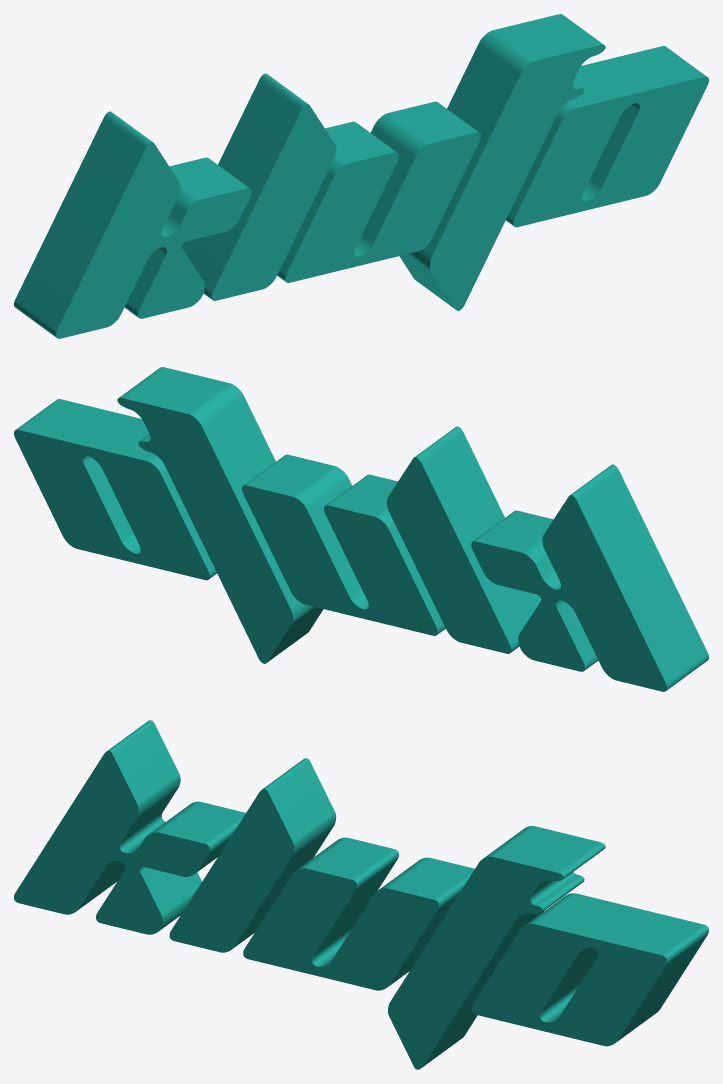
3 renders of one model, top to bottom at view 1: azimuth 30°, elevation 25°; view 2: azimuth 150°, elevation 25°; view 3: azimuth 330°, elevation 25°, orthographic.
Parts seen in each view (by area): view 1: klufo; view 2: klufo; view 3: klufo.
Boxes of the visible parts, <box> form: klufo: <box>14,14,708,338</box>; klufo: <box>14,367,708,691</box>; klufo: <box>14,720,708,1069</box>.
Size of the model in its own units: 2.09 by 0.7454 by 0.2328.
